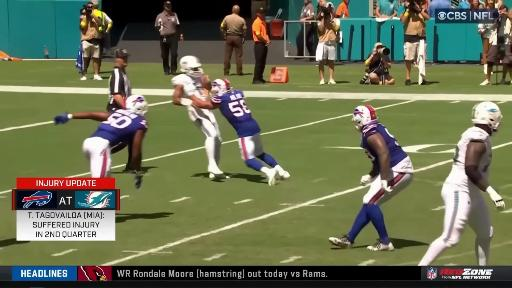Helmet: (472, 102, 502, 131), (352, 105, 377, 130), (180, 56, 203, 77), (125, 95, 148, 115), (211, 79, 232, 94)
Jersey: (445, 127, 491, 192), (361, 122, 412, 173), (211, 90, 260, 137), (90, 110, 147, 146), (172, 74, 207, 100)
Player: (419, 102, 504, 265), (329, 105, 413, 250), (191, 79, 290, 185), (54, 95, 148, 188), (172, 56, 227, 179)
